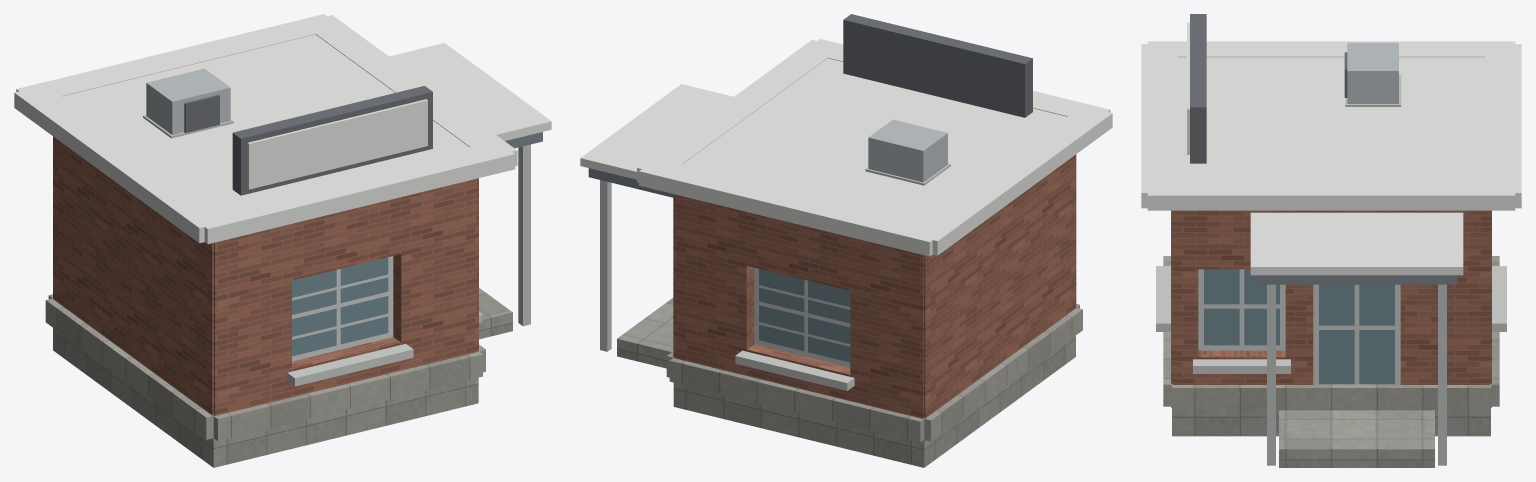
3 views of the same model, side by side, from view 1: azimuth 30°, elevation 25°; view 2: azimuth 150°, elevation 25°; view 3: azimuth 270°, elevation 25° (orthographic). The views are drawn at different scales.
Visible parts, largest first — view 1: guard__cap, guard__guardbrick, guard__stone, guard__glass, guard__darkframe, guard__metalroof, guard__steel, guard__frame, guard__sill, guard__threshold-front; view 2: guard__cap, guard__guardbrick, guard__stone, guard__darkframe, guard__glass, guard__metalroof, guard__threshold-front, guard__steel, guard__frame, guard__sill, guard__entrance; view 3: guard__cap, guard__guardbrick, guard__stone, guard__glass, guard__threshold-front, guard__frame, guard__steel, guard__sill, guard__metalroof, guard__darkframe, guard__entrance.
Boxes of the visible parts, <box> form: guard__cap: <box>14,14,551,244</box>; guard__guardbrick: <box>53,136,478,439</box>; guard__stone: <box>45,294,485,467</box>; guard__glass: <box>292,257,388,356</box>; guard__darkframe: <box>184,86,432,195</box>; guard__metalroof: <box>146,68,230,134</box>; guard__steel: <box>143,115,530,326</box>; guard__frame: <box>292,256,393,361</box>; guard__sill: <box>287,312,481,386</box>; guard__threshold-front: <box>479,288,512,339</box>; guard__cap: <box>580,39,1112,256</box>; guard__guardbrick: <box>673,154,1076,440</box>; guard__stone: <box>666,304,1082,467</box>; guard__darkframe: <box>843,14,1032,117</box>; guard__glass: <box>759,268,850,362</box>; guard__metalroof: <box>868,119,947,182</box>; guard__threshold-front: <box>617,298,673,368</box>; guard__steel: <box>600,163,950,351</box>; guard__frame: <box>754,267,850,367</box>; guard__sill: <box>735,350,854,390</box>; guard__entrance: <box>588,168,673,197</box>; guard__cap: <box>1141,22,1521,275</box>; guard__guardbrick: <box>1171,210,1491,407</box>; guard__stone: <box>1163,256,1499,436</box>; guard__glass: <box>1204,269,1394,384</box>; guard__threshold-front: <box>1279,410,1434,467</box>; guard__frame: <box>1198,269,1400,384</box>; guard__steel: <box>1267,74,1446,465</box>; guard__sill: <box>1156,266,1506,373</box>; guard__metalroof: <box>1347,42,1398,103</box>; guard__darkframe: <box>1190,14,1347,163</box>; guard__entrance: <box>1256,275,1457,284</box>.
Size of the model in its own units: 6.1 by 4.52 by 5.
11 materials, 2 textured.
